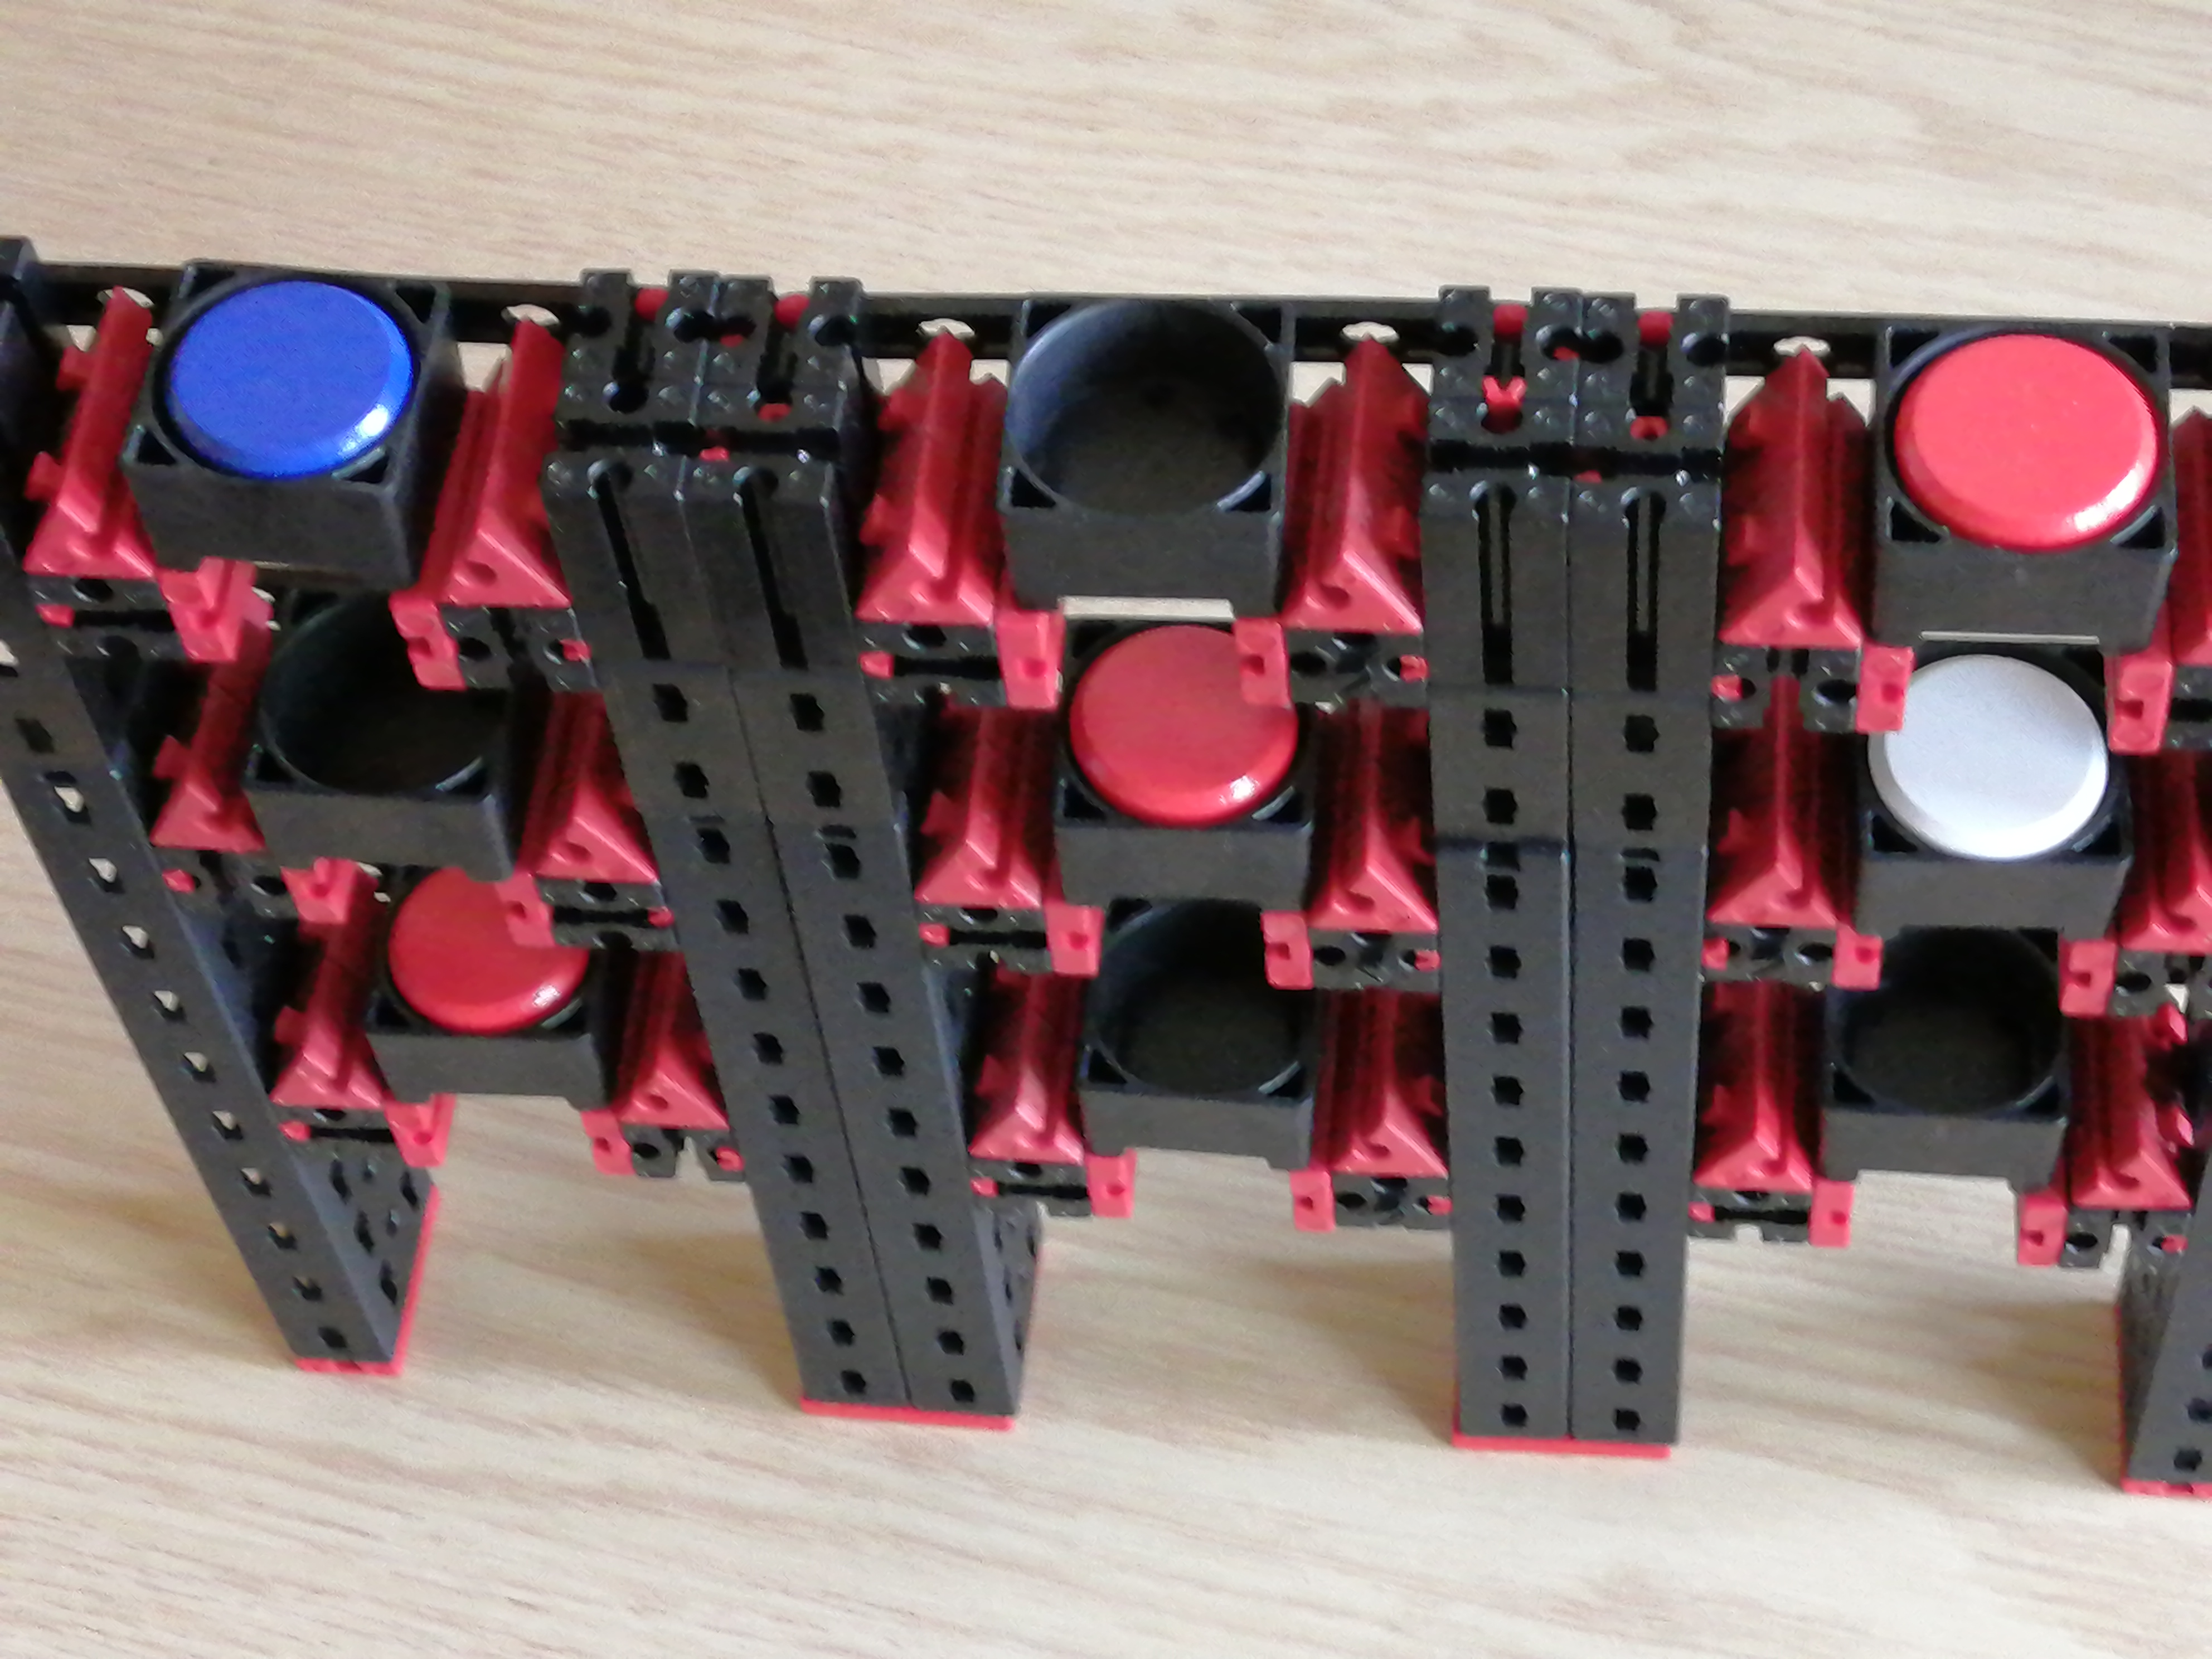Behaelter: (1010, 288, 1289, 605), (1869, 345, 2158, 643), (153, 274, 423, 575), (1855, 742, 2130, 934), (247, 680, 542, 857), (1052, 714, 1318, 896), (1813, 1004, 2055, 1176), (369, 955, 620, 1098), (1071, 995, 1310, 1145)
WerkStueck: (1897, 340, 2135, 544), (158, 282, 406, 460), (1911, 662, 2092, 866), (1069, 629, 1244, 812), (387, 878, 507, 1037)
